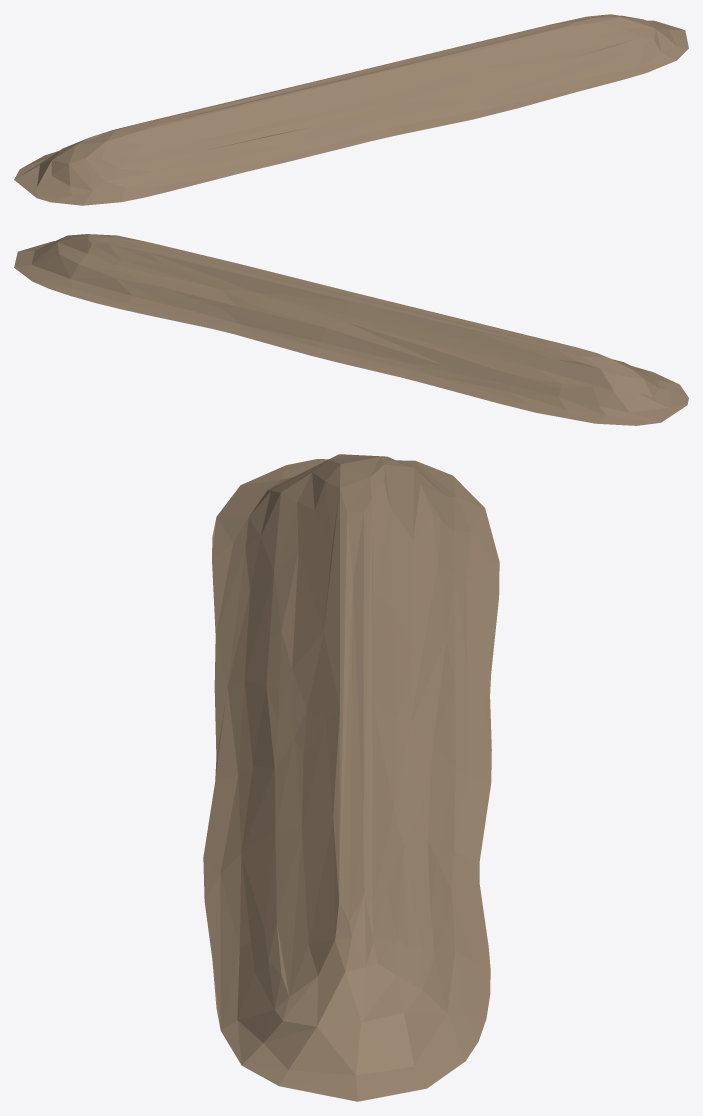
The model's file is SM_Prop_Barrier_Base_Dirt_02.fbx.
The picture shows the model from 3 angles, top to bottom: view 1: azimuth 30°, elevation 25°; view 2: azimuth 150°, elevation 25°; view 3: azimuth 270°, elevation 25°; orthographic projection. The views are drawn at different scales.
Parts seen in each view (by area): view 1: SM_Prop_Barrier_Base_Dirt_02; view 2: SM_Prop_Barrier_Base_Dirt_02; view 3: SM_Prop_Barrier_Base_Dirt_02.
Part boxes in pixels (x1,y1,x2,y2): SM_Prop_Barrier_Base_Dirt_02: (14,14,688,205); SM_Prop_Barrier_Base_Dirt_02: (14,234,688,425); SM_Prop_Barrier_Base_Dirt_02: (203,454,499,1101).
Bounding box in the file's own units: 1239 × 66.37 × 241.
